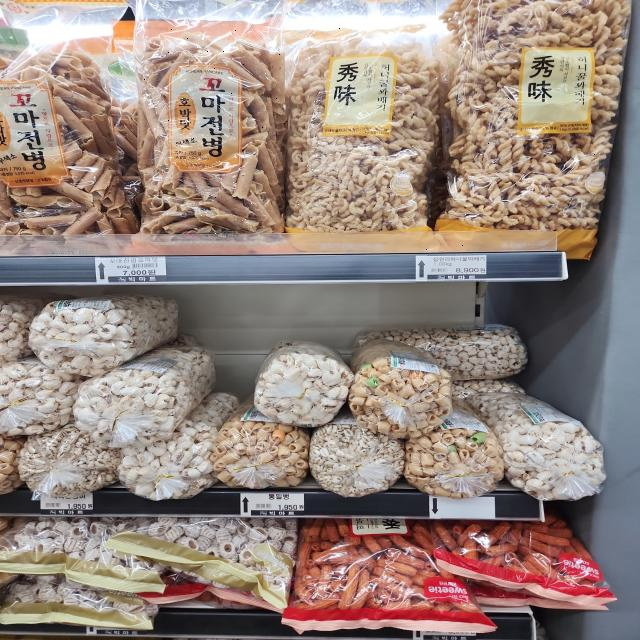product: (451, 0, 604, 246), (135, 4, 289, 246), (296, 2, 440, 258)
